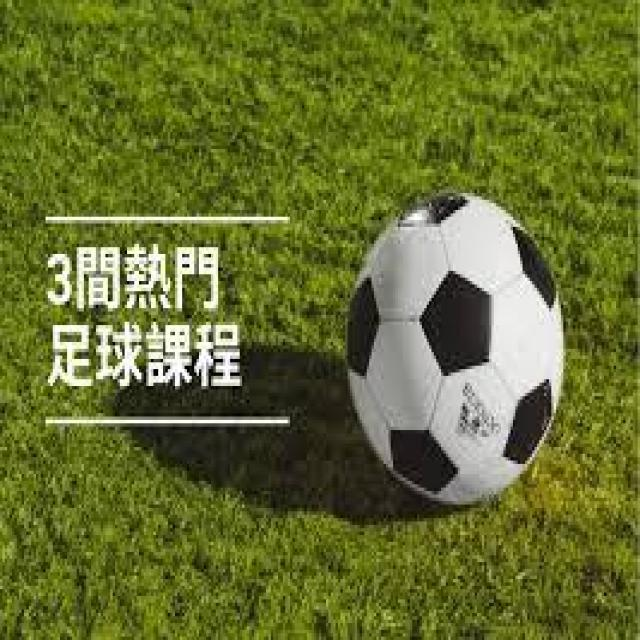ball: (346, 192, 563, 508)
